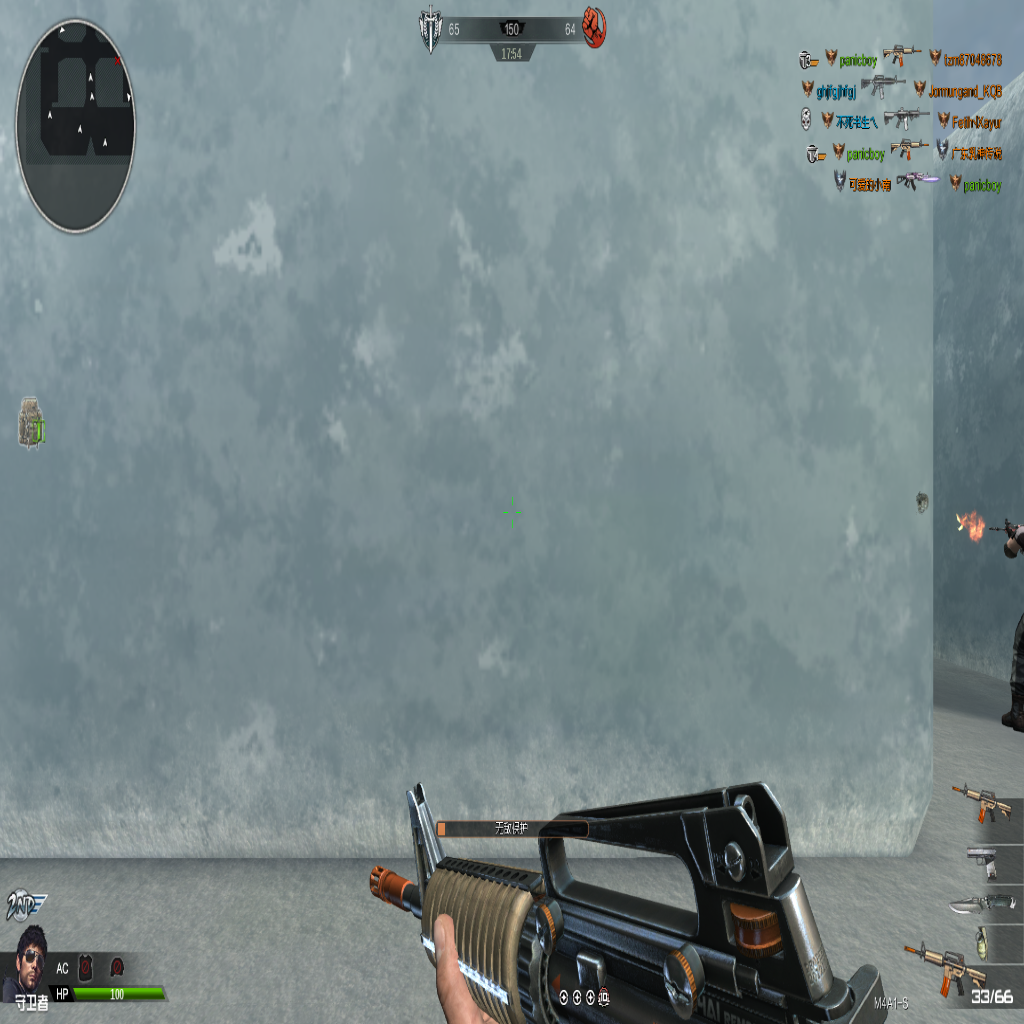ct: (997, 508, 1024, 766)
